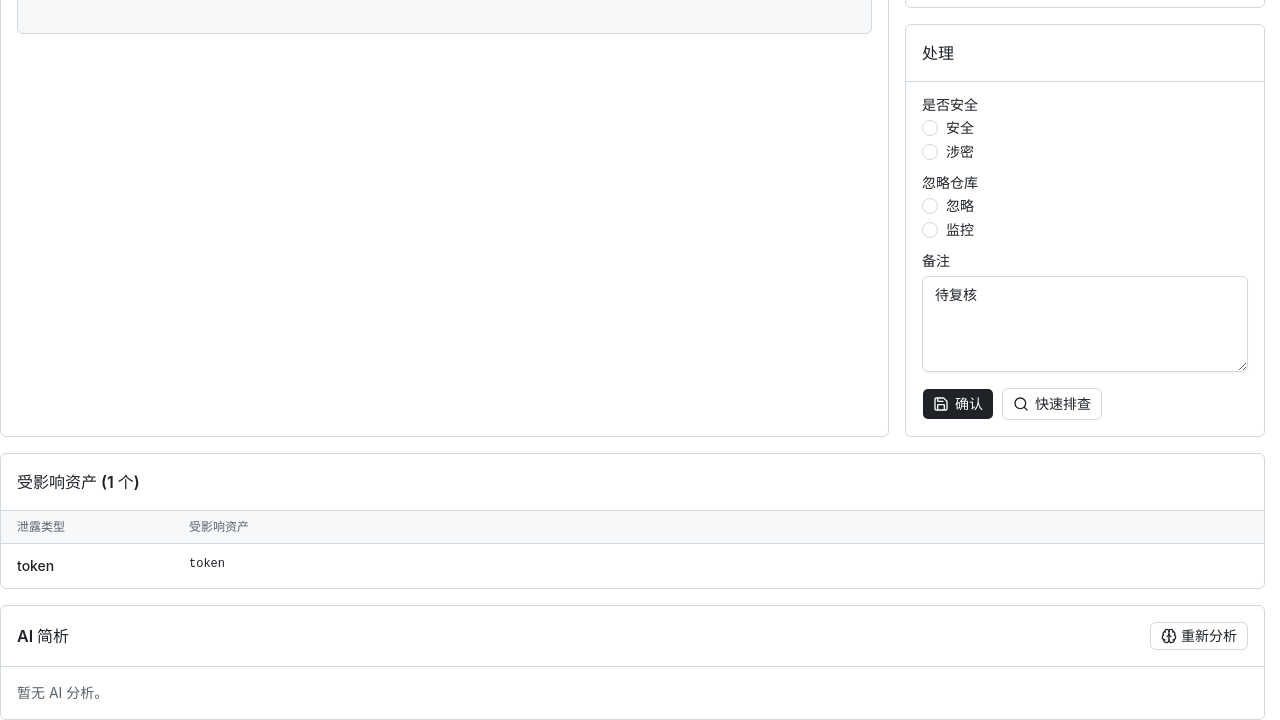
Test: LeakageDetailPage › loads leakage detail, decodes code, and submits the compatible payload
(page scrolled)
Click the button "确认" at (958, 404), box [922, 388, 994, 420]
(page scrolled)
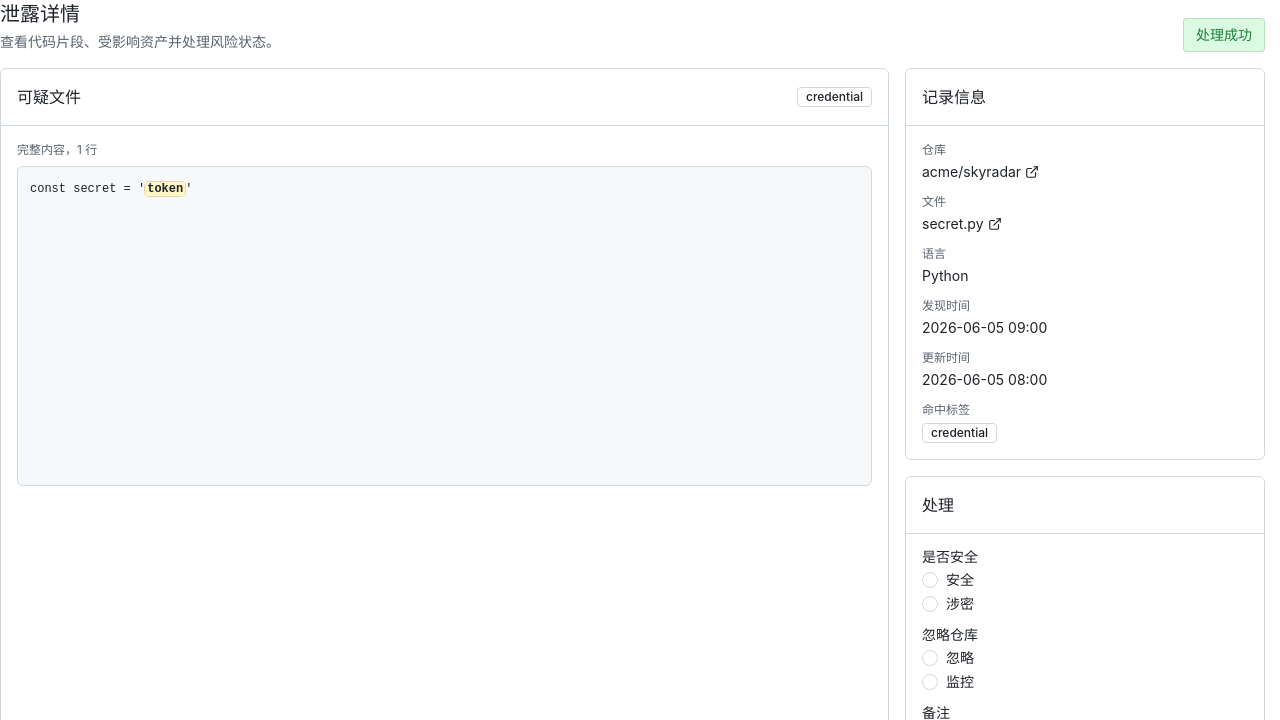
Expected: the text "处理成功" is shown, [1183, 18, 1265, 52]
